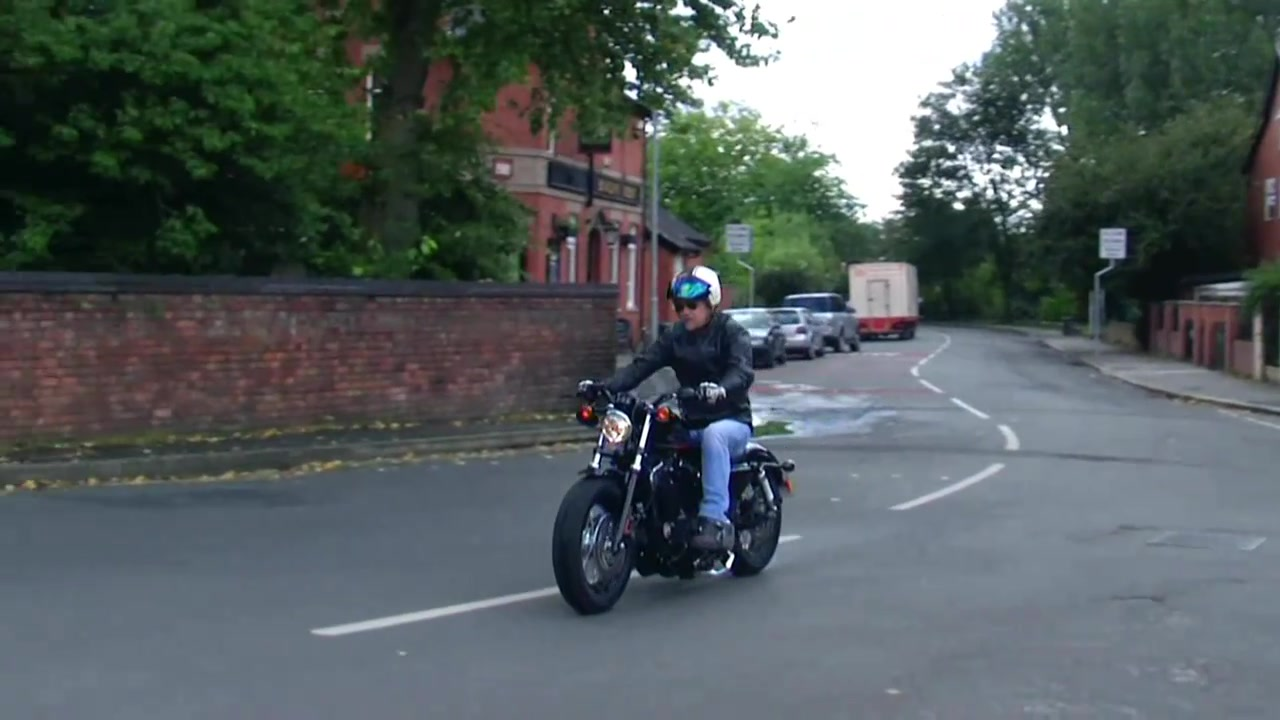motorbike: (550, 376, 797, 619)
